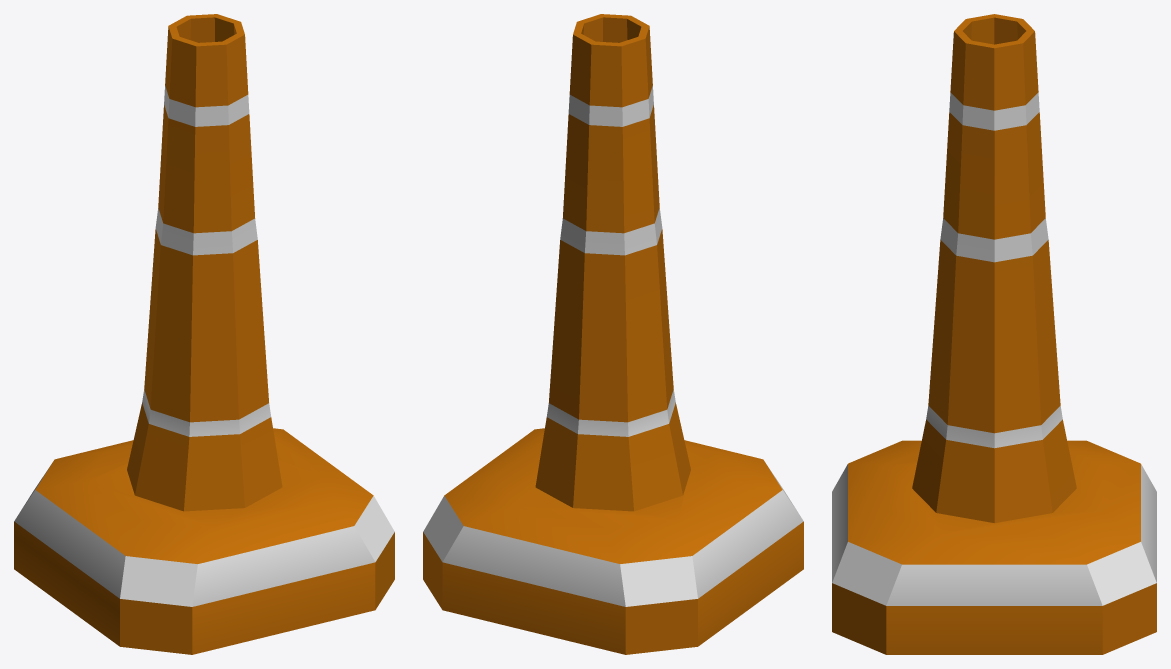
File: Cones.fbx
3 renders of one model, left to right at view 1: azimuth 30°, elevation 25°; view 2: azimuth 150°, elevation 25°; view 3: azimuth 270°, elevation 25°, orthographic. The views are drawn at different scales.
Parts seen in each view (by area): view 1: pCone6; view 2: pCone6; view 3: pCone6.
Part boxes in pixels (x1,y1,x2,y2): pCone6: (14, 14, 394, 654); pCone6: (423, 14, 803, 654); pCone6: (832, 14, 1156, 654).
Size of the model in its own units: 26.69 by 50.46 by 26.69.
